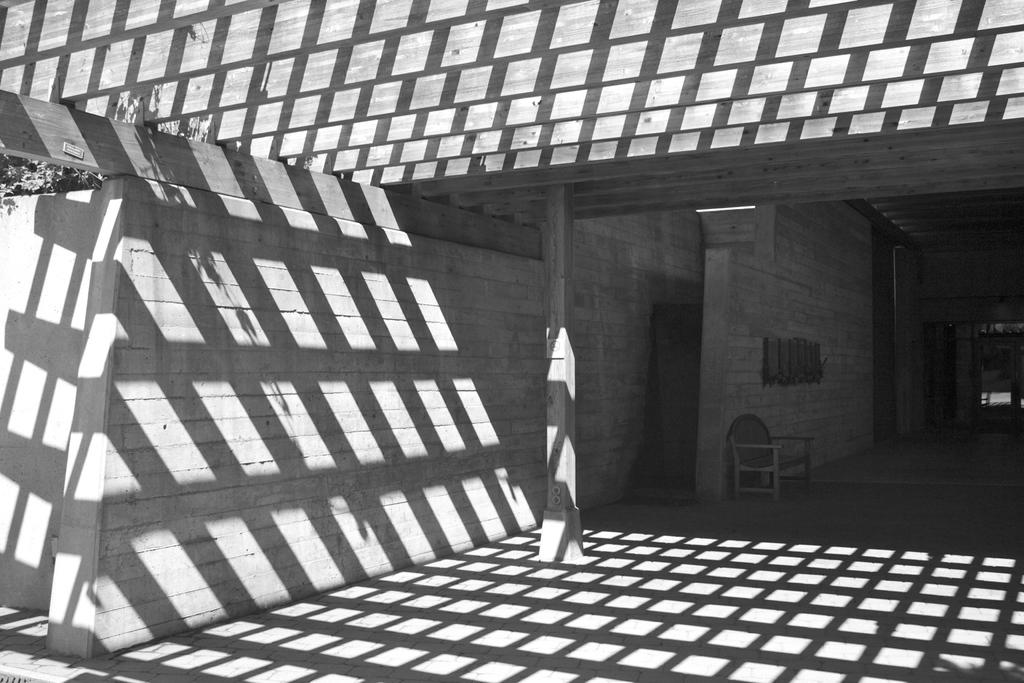Chair: (725, 412, 812, 497)
